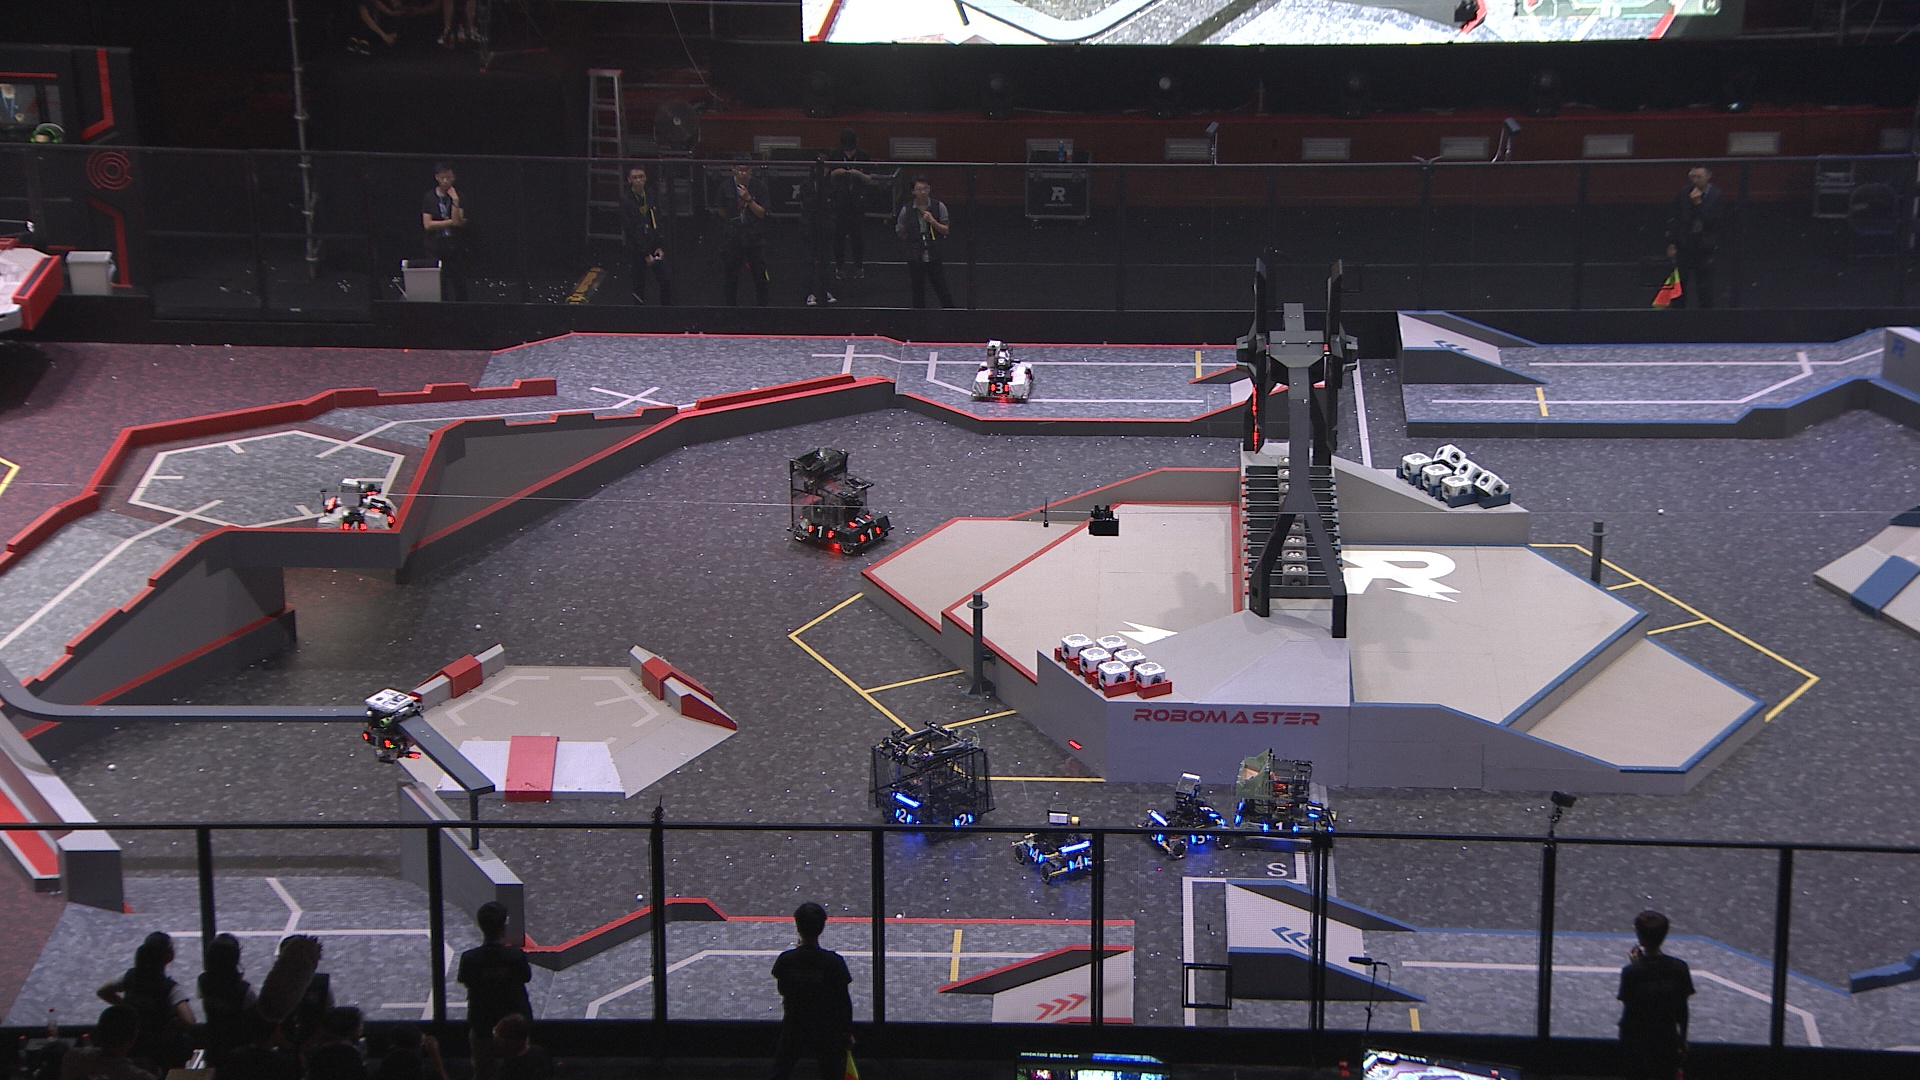armor: (361, 728, 392, 750), (1261, 818, 1300, 833), (804, 522, 833, 542), (949, 812, 975, 831), (891, 807, 915, 825), (1065, 855, 1091, 872), (858, 527, 882, 545), (986, 380, 1011, 396), (1197, 803, 1220, 820), (847, 512, 869, 527), (1189, 833, 1216, 847), (367, 496, 386, 513), (1325, 808, 1338, 833), (988, 368, 1015, 380), (1026, 847, 1043, 865), (1305, 800, 1324, 818), (340, 520, 367, 531)
car: (869, 723, 996, 843), (785, 444, 891, 555), (1229, 750, 1338, 851), (1135, 771, 1234, 858), (1010, 811, 1102, 885), (315, 477, 401, 542), (968, 339, 1036, 401)
watcher: (357, 688, 425, 765)
